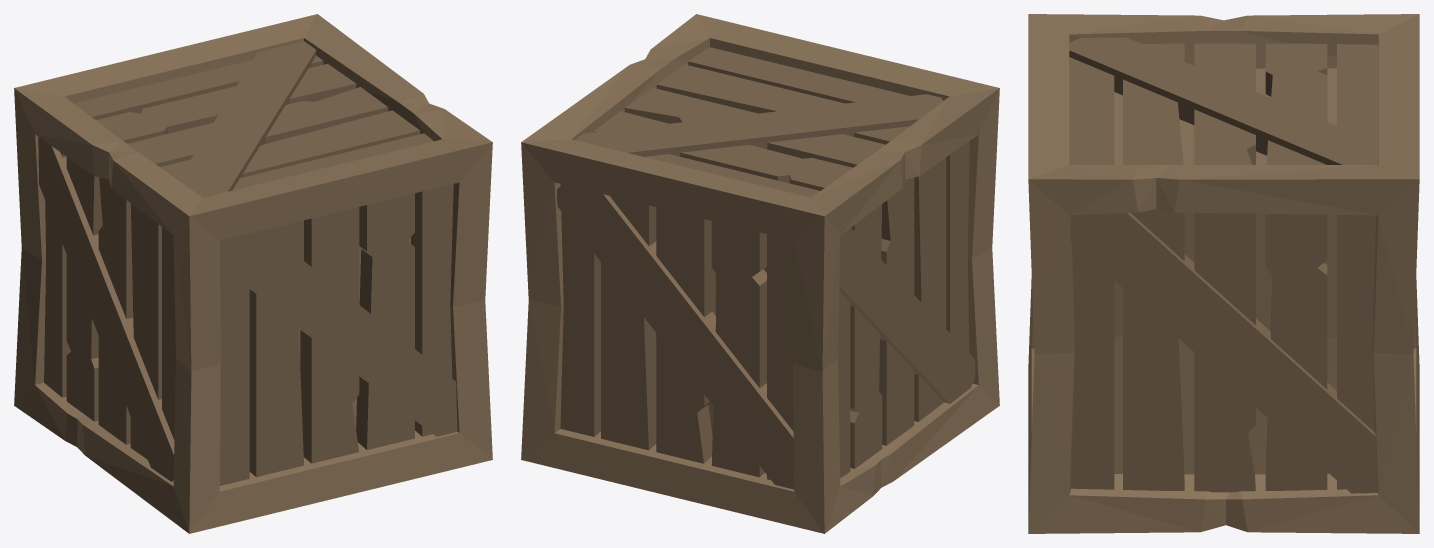
File: p_crate.glb
The picture shows the model from 3 angles, left to right: view 1: azimuth 30°, elevation 25°; view 2: azimuth 150°, elevation 25°; view 3: azimuth 270°, elevation 25°; orthographic projection. The views are drawn at different scales.
Visible parts, largest first — view 1: hull; view 2: hull; view 3: hull.
Boxes of the visible parts, x1,y1,x2,y2 form: hull: [14, 14, 492, 533]; hull: [521, 14, 999, 533]; hull: [1028, 14, 1419, 533].
Bounding box in the file's own units: 0.8 × 0.8 × 0.8001.
